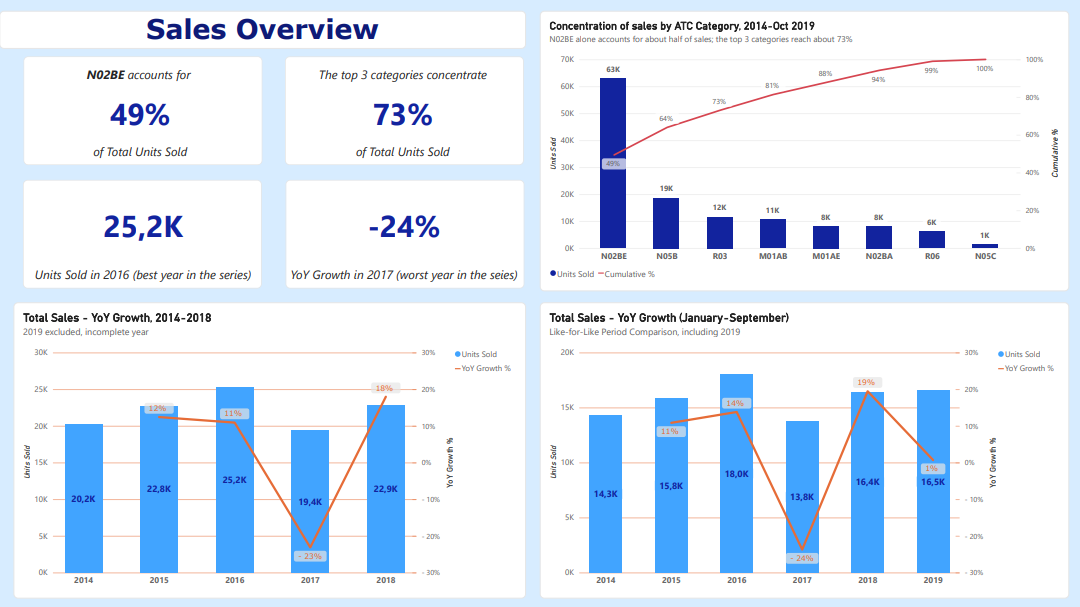

The page's visual inventory and layout, read from the dashboard file:
{"tool":"powerbi","page":{"name":"Sales Overview","canvas":[1920,1080],"ordinal":0},"visuals":[{"type":"lineStackedColumnComboChart","title":"Concentration of sales by ATC Category, 2014-Oct 2019","fields":{"Category":["Query1.category"],"Y":["Sum(Query1.total)"],"Y2":["Sum(Query1.cumulative_pct)"]},"box":[394,0,1132,504],"z":1000},{"type":"lineStackedColumnComboChart","title":"Total Sales - YoY Growth, 2014-2018","fields":{"Category":["Query2.year"],"Y":["Sum(Query2.total_sales)"],"Y2":["Sum(Query2.yoy_growth_pct)"]},"box":[0,540,922,540],"z":1001},{"type":"lineStackedColumnComboChart","title":"Total Sales - YoY Growth (January-September)","fields":{"Category":["Query3.year"],"Y":["Sum(Query3.total_sales)"],"Y2":["Sum(Query3.yoy_growth_pct)"]},"box":[960,540,960,540],"z":1002}]}

Visuals, with their boxes in screenshot pixels (x1, y1, x2, y2), scaled from the page's 1920x1080 canvas onto the 1080x607 screenshot:
"Concentration of sales by ATC Category, 2014-Oct 2019" lineStackedColumnComboChart: {"left": 222, "top": 0, "right": 858, "bottom": 283}
"Total Sales - YoY Growth, 2014-2018" lineStackedColumnComboChart: {"left": 0, "top": 304, "right": 519, "bottom": 606}
"Total Sales - YoY Growth (January-September)" lineStackedColumnComboChart: {"left": 540, "top": 304, "right": 1079, "bottom": 606}
